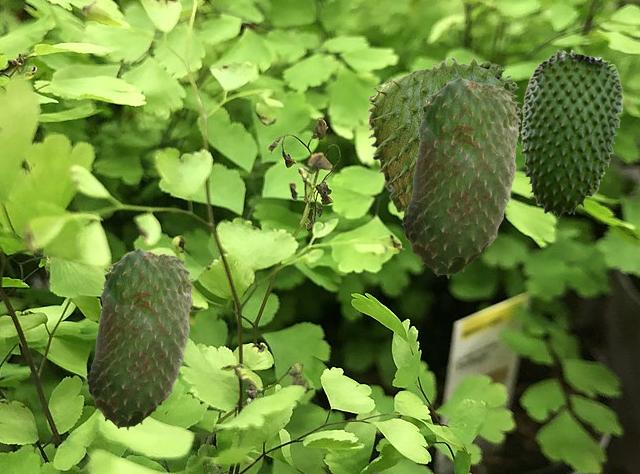guyabano: (367, 56, 522, 215), (401, 76, 521, 277), (85, 247, 194, 429), (520, 49, 622, 217)
